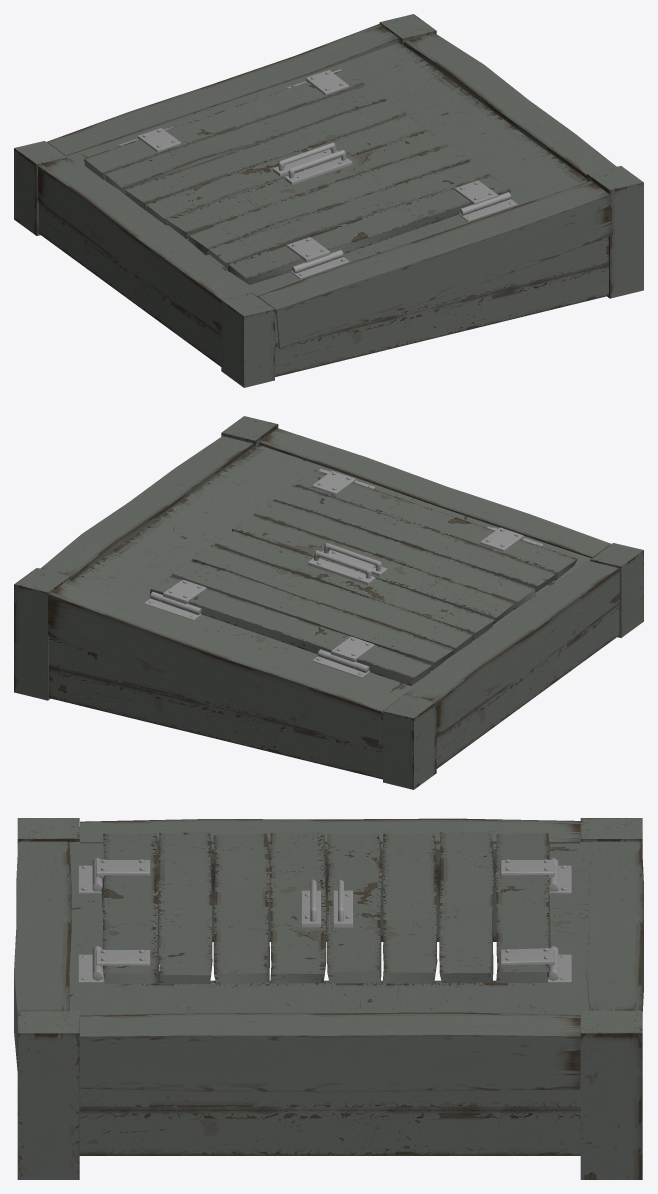
The model's file is SM_HatchA.FBX.
3 renders of one model, top to bottom at view 1: azimuth 30°, elevation 25°; view 2: azimuth 150°, elevation 25°; view 3: azimuth 270°, elevation 25°, orthographic. The views are drawn at different scales.
Visible parts, largest first — view 1: SM_HatchA_LOD0; view 2: SM_HatchA_LOD0; view 3: SM_HatchA_LOD0.
Boxes of the visible parts, x1,y1,x2,y2 form: SM_HatchA_LOD0: (14,14,643,387); SM_HatchA_LOD0: (14,416,643,789); SM_HatchA_LOD0: (14,818,643,1179).
Size of what is drawn, in the model's own units: 203 by 52.26 by 203.
